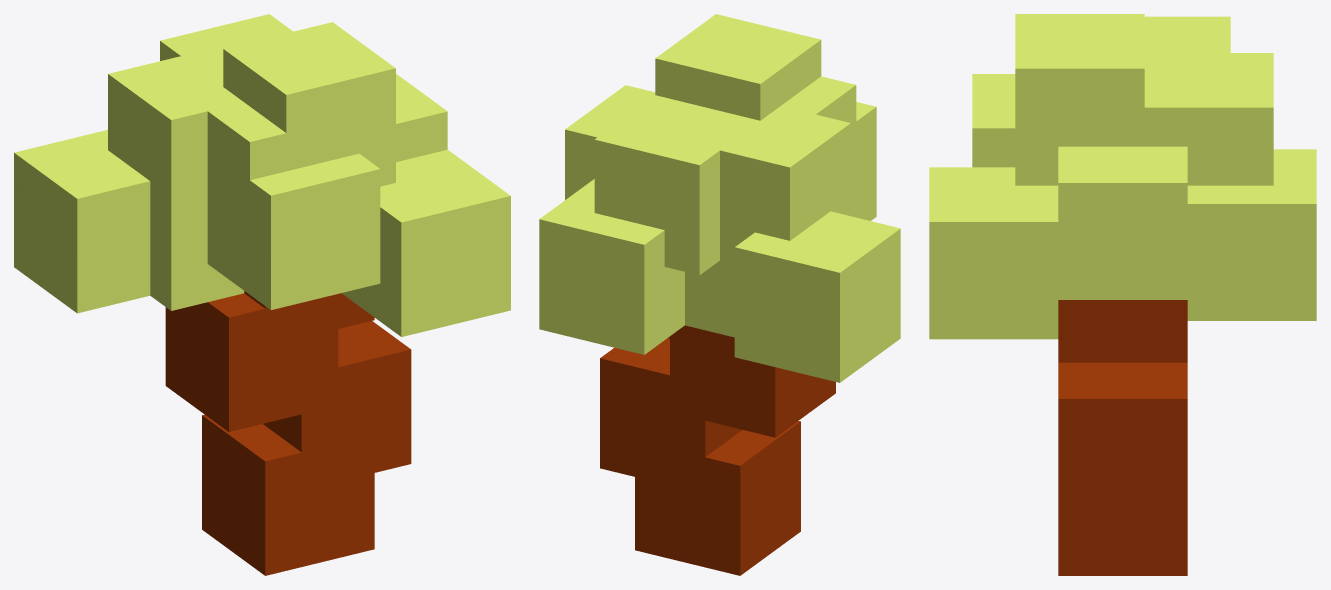
Rendered from Oak4Dehydrated.gltf.
3 views of the same model, side by side, from view 1: azimuth 30°, elevation 25°; view 2: azimuth 150°, elevation 25°; view 3: azimuth 270°, elevation 25° (orthographic). The views are drawn at different scales.
Parts seen in each view (by area): view 1: cube (×13); view 2: cube (×13); view 3: cube (×11).
Part boxes in pixels (box(x1,y1,x2,y2)): cube (×13): box(14, 14, 510, 575); cube (×13): box(539, 14, 900, 575); cube (×11): box(929, 14, 1316, 575).
Bounding box in the file's own units: 0.5625 × 0.8125 × 0.5625.
2 materials, 2 textured.
